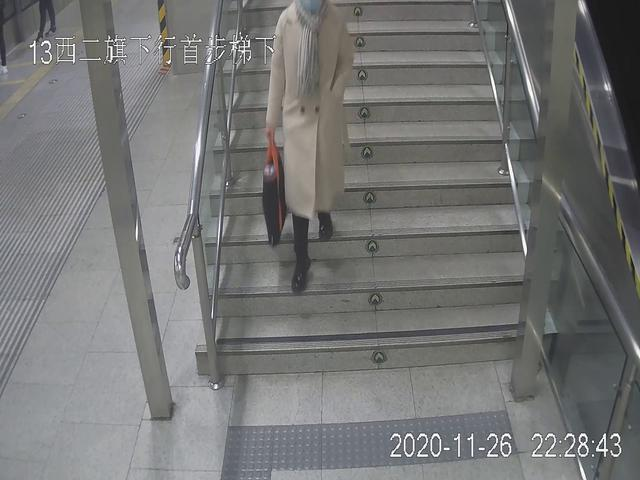person: (257, 1, 361, 297)
